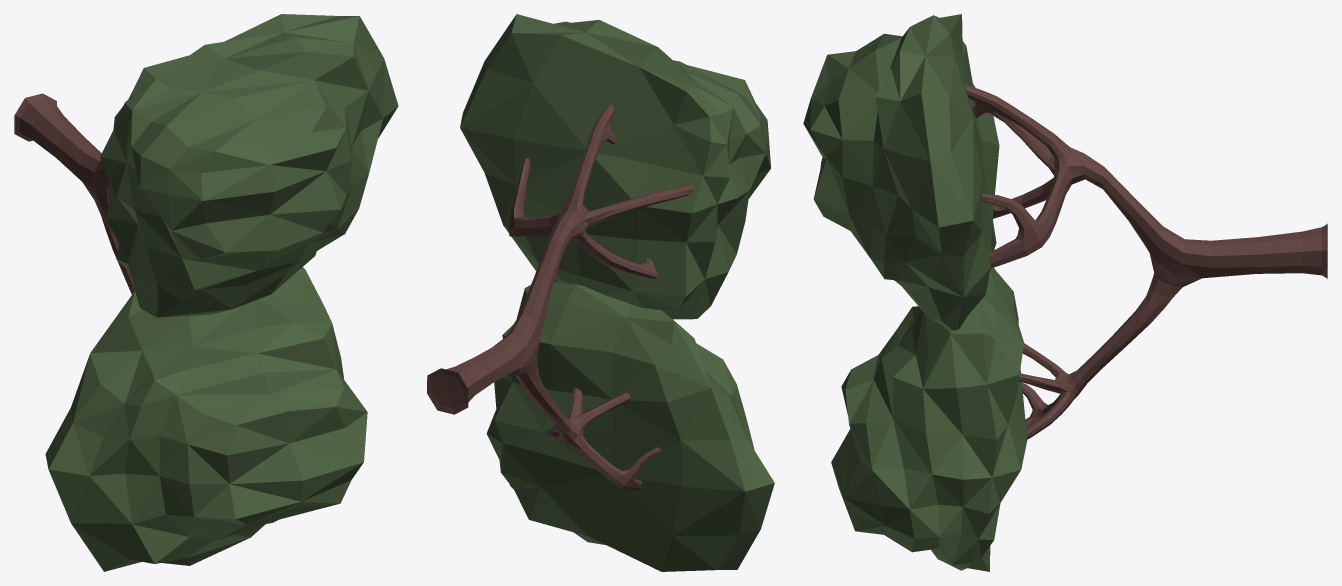
File: tree-deciduous-1-30-ft.obj
3 views of the same model, side by side, from view 1: azimuth 30°, elevation 25°; view 2: azimuth 150°, elevation 25°; view 3: azimuth 270°, elevation 25° (orthographic). The views are drawn at different scales.
Parts seen in each view (by area): view 1: tree-deciduous-1-30-ft; view 2: tree-deciduous-1-30-ft; view 3: tree-deciduous-1-30-ft.
Part boxes in pixels (x1=…): tree-deciduous-1-30-ft: x1=14, y1=14, x2=398, y2=571; tree-deciduous-1-30-ft: x1=427, y1=14, x2=774, y2=571; tree-deciduous-1-30-ft: x1=803, y1=14, x2=1327, y2=571.
Size of the model in its own units: 274 by 402 by 360.
